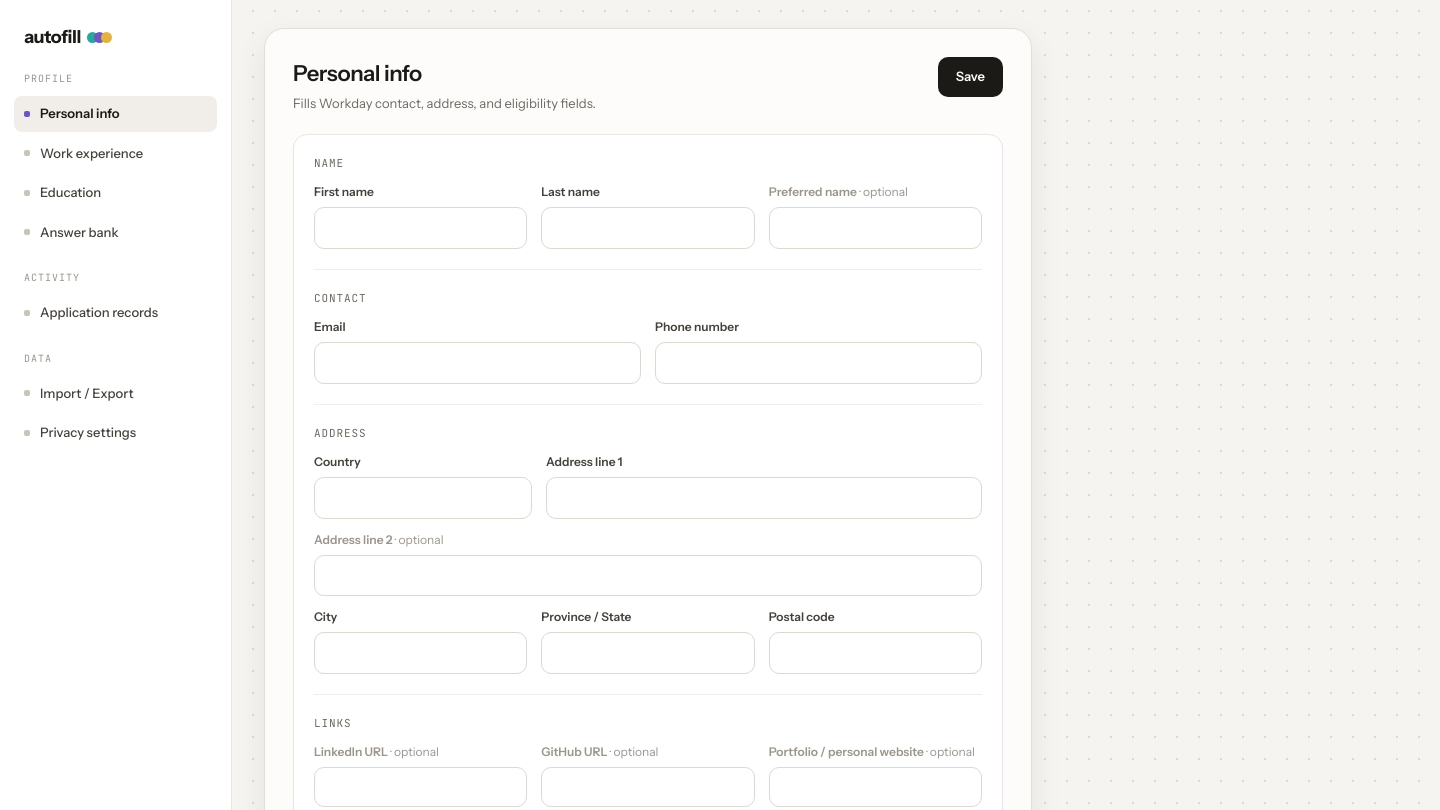
Test case: App › shows the application records tab
Click the button "Application records".
click(116, 313)  # box [14,295,217,330]
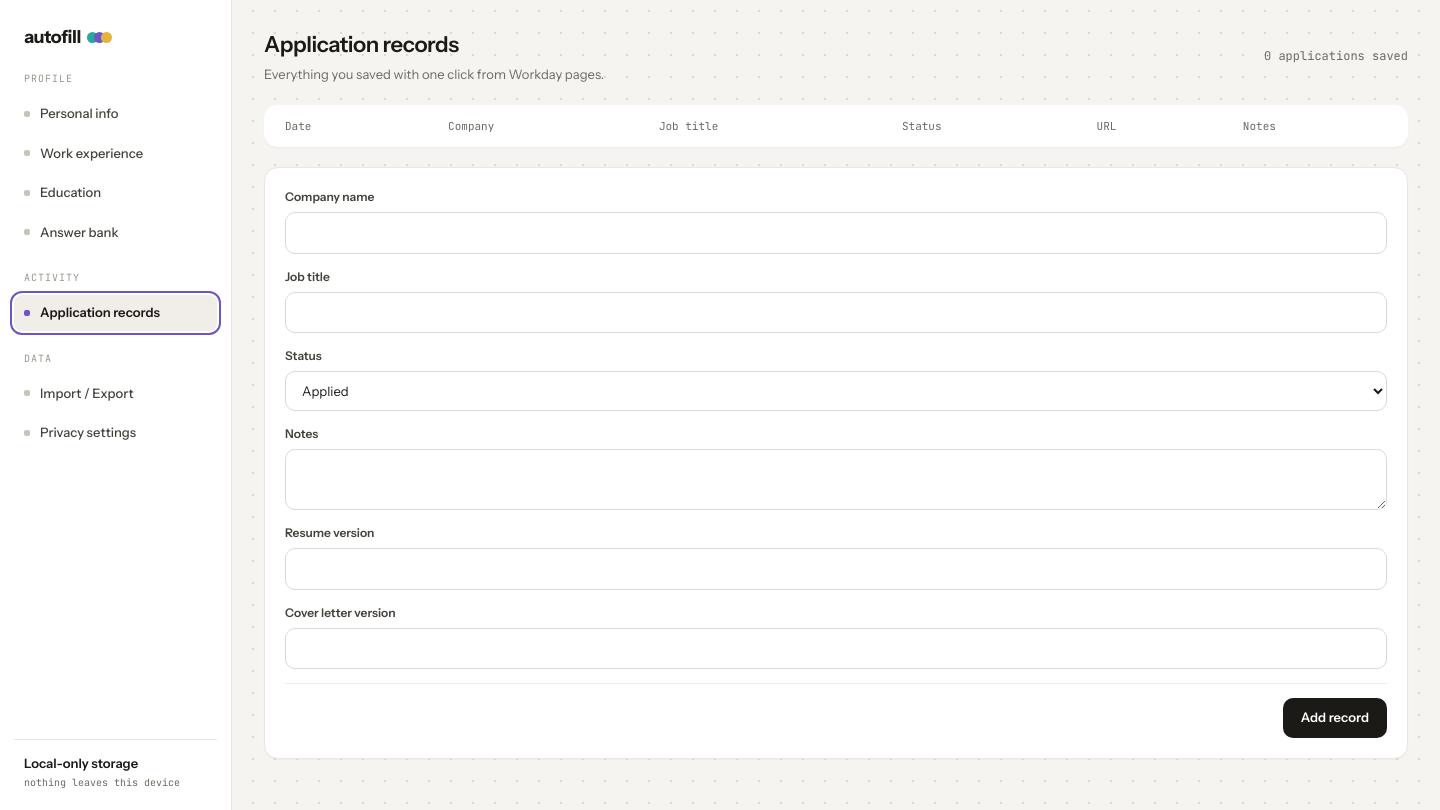
Expected: the form named "Application record form" is shown, [264,167,1408,758]
